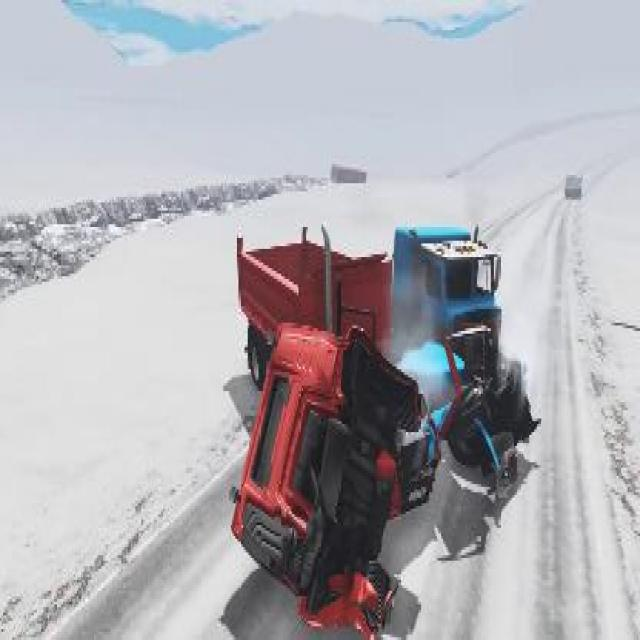accident: (224, 194, 538, 640)
